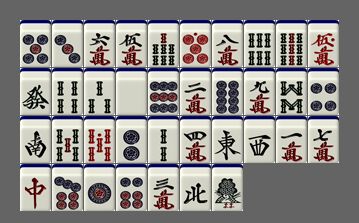0m: (308, 20, 339, 67)
0p: (180, 20, 211, 67)
0s: (84, 116, 115, 163)
1m: (276, 116, 307, 163)
1p: (84, 164, 115, 211)
1s: (212, 164, 243, 211)
1z: (212, 116, 243, 163)
2m: (180, 68, 211, 115)
2p: (116, 116, 147, 163)
2s: (148, 116, 179, 163)
2z: (20, 116, 51, 163)
3m: (148, 164, 179, 211)
3p: (52, 20, 83, 67)
3s: (84, 68, 115, 115)
3z: (244, 116, 275, 163)
4m: (180, 116, 211, 163)
4p: (308, 68, 339, 115)
4s: (52, 68, 83, 115)
4z: (180, 164, 211, 211)
5m: (116, 20, 147, 67)
5p: (20, 20, 51, 67)
5s: (52, 116, 83, 163)
5z: (116, 68, 147, 115)
6m: (84, 20, 115, 67)
6p: (116, 164, 147, 211)
6s: (244, 20, 275, 67)
6z: (20, 68, 51, 115)
7m: (308, 116, 339, 163)
7p: (52, 164, 83, 211)
7s: (148, 20, 179, 67)
7z: (20, 164, 51, 211)
8m: (212, 20, 243, 67)
8p: (212, 68, 243, 115)
8s: (276, 68, 307, 115)
9m: (244, 68, 275, 115)
9p: (148, 68, 179, 115)
9s: (276, 20, 307, 67)
